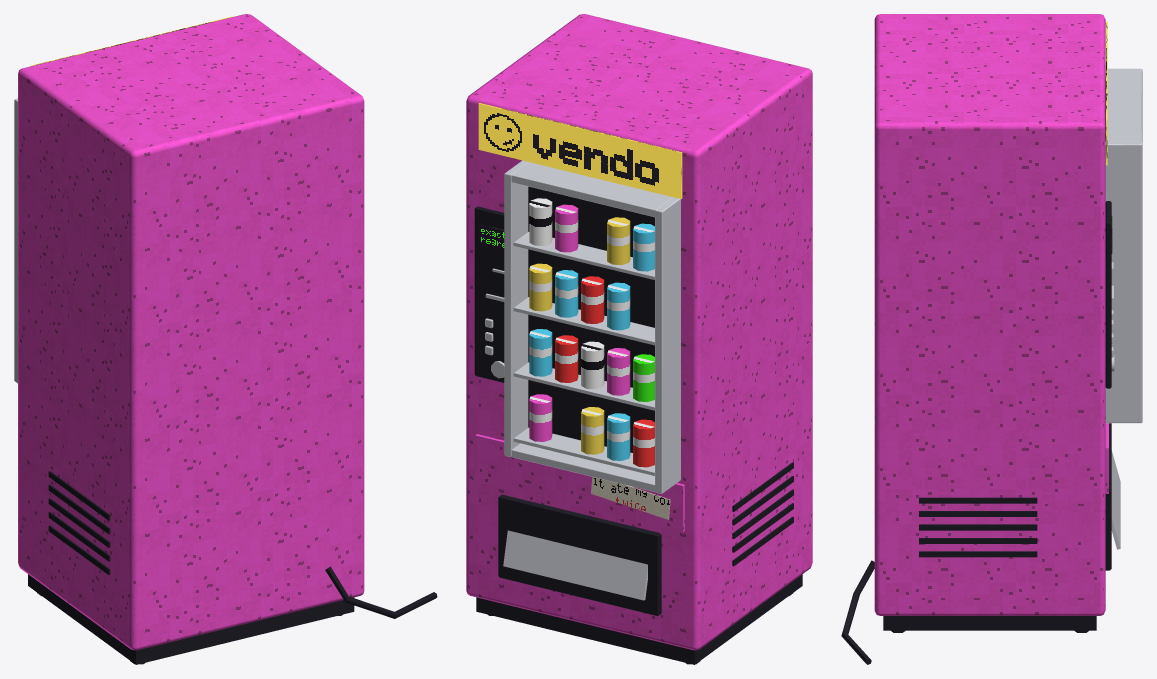
The model's file is s_vendo.glb.
3 views of the same model, side by side, from view 1: azimuth 30°, elevation 25°; view 2: azimuth 150°, elevation 25°; view 3: azimuth 270°, elevation 25° (orthographic).
Parts seen in each view (by area): view 1: s_vendo_mesh; view 2: s_vendo_mesh; view 3: s_vendo_mesh.
Part boxes in pixels (left/top/right/bottom): s_vendo_mesh: left=14, top=14, right=437, bottom=664; s_vendo_mesh: left=466, top=14, right=812, bottom=664; s_vendo_mesh: left=841, top=14, right=1142, bottom=664.
Size of what is drawn, in the model's own units: 1.16 by 1.92 by 1.02.
Materials: 5 (5 with a texture image).
